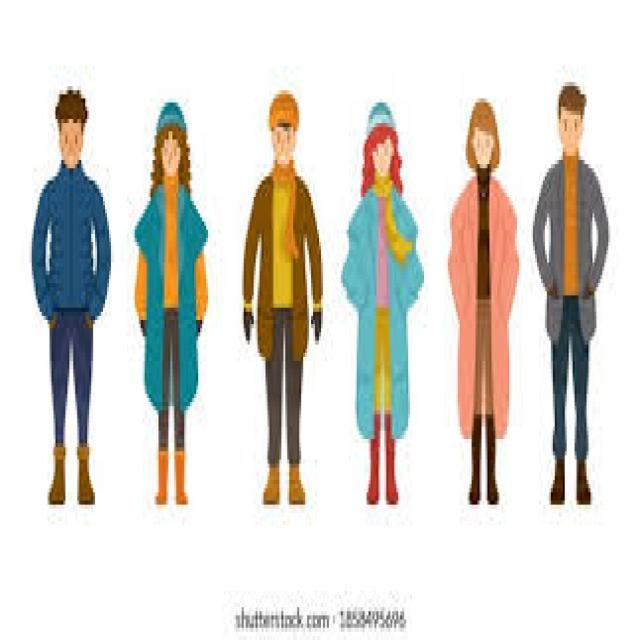Jacket: (339, 178, 427, 439), (453, 175, 521, 449), (242, 155, 326, 358), (540, 148, 620, 347), (143, 187, 217, 400), (36, 162, 120, 284)
